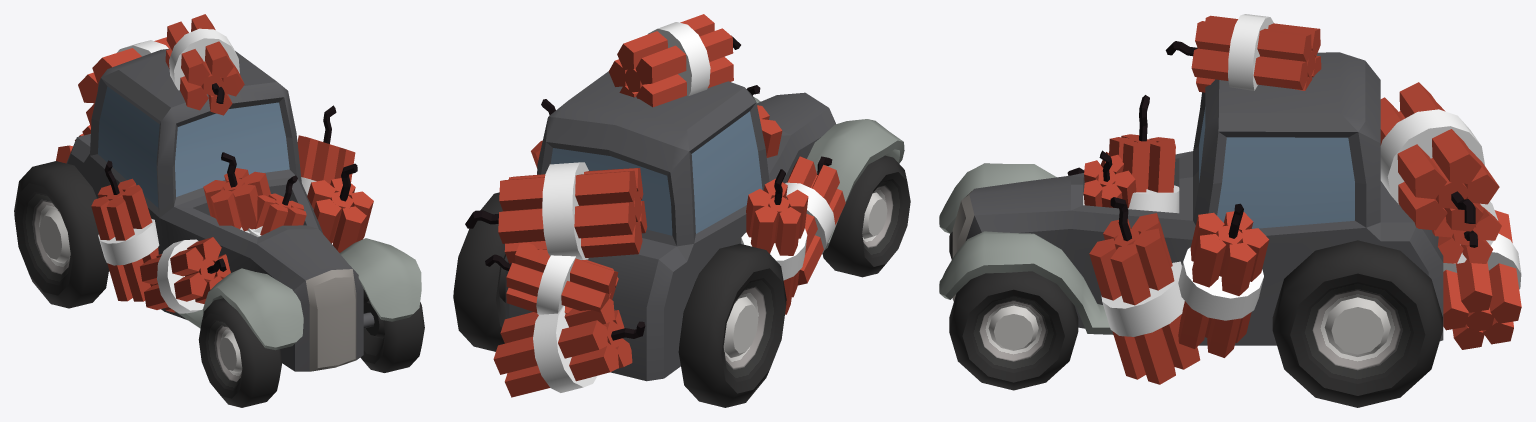
Rendered from Explode_Car.fbx.
The picture shows the model from 3 angles, left to right: view 1: azimuth 30°, elevation 25°; view 2: azimuth 150°, elevation 25°; view 3: azimuth 270°, elevation 25°; orthographic projection. The views are drawn at different scales.
Parts seen in each view (by area): view 1: Body, Wheel2, Wheel; view 2: Body, Wheel2, Wheel; view 3: Body, Wheel2, Wheel.
Boxes of the visible parts, x1=… form: Body: x1=56, y1=14, x2=421, y2=371; Wheel2: x1=14, y1=161, x2=108, y2=308; Wheel: x1=198, y1=289, x2=424, y2=407; Body: x1=465, y1=14, x2=904, y2=397; Wheel2: x1=453, y1=192, x2=786, y2=407; Wheel: x1=822, y1=155, x2=910, y2=277; Body: x1=939, y1=14, x2=1521, y2=384; Wheel2: x1=1272, y1=240, x2=1442, y2=407; Wheel: x1=949, y1=232, x2=1078, y2=390.
Bounding box in the file's own units: 6.12 × 6.56 × 10.72.
